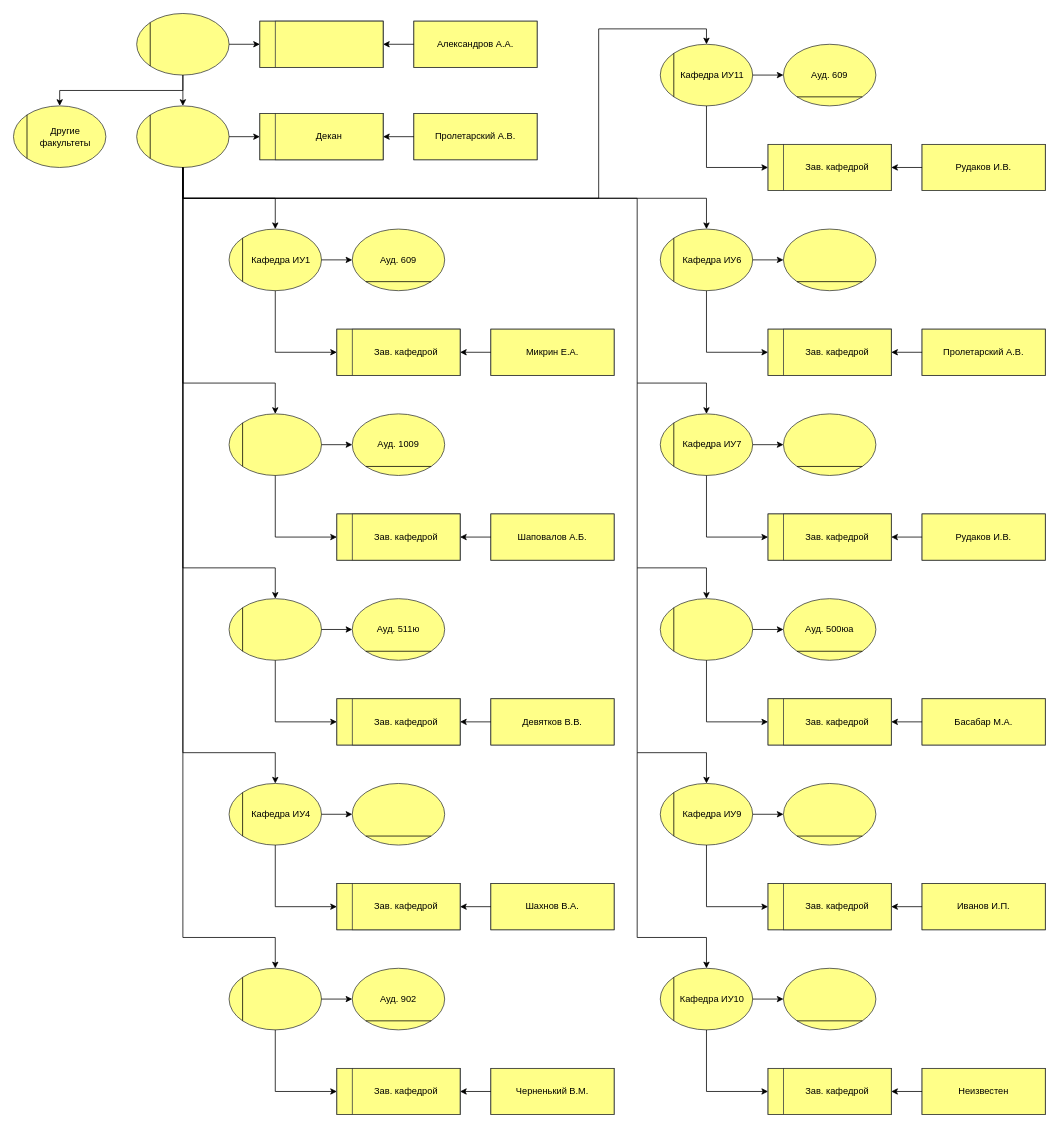
Image size: 1059x1128. Some labels were removed from this diagram. The shapes that lost their labels are listed below. From the top down, each one's box as (x1, y1, x2, y2) in pixels, then its label:
(136, 13, 229, 75): МГТУ им. Н.Э. Баумана
(275, 20, 383, 67): Ректор
(136, 105, 229, 167): Факультет ИУ
(783, 228, 876, 291): Ауд. 802
(228, 413, 321, 475): Кафедра ИУ2
(783, 413, 876, 475): Ауд. 503л
(228, 598, 321, 660): Кафедра ИУ3
(660, 598, 753, 660): Кафедра ИУ8
(352, 783, 445, 845): Ауд. 275
(783, 783, 876, 845): Ауд. 305ю
(228, 968, 321, 1030): Кафедра ИУ5
(783, 968, 876, 1030): Ауд. неизвестна
